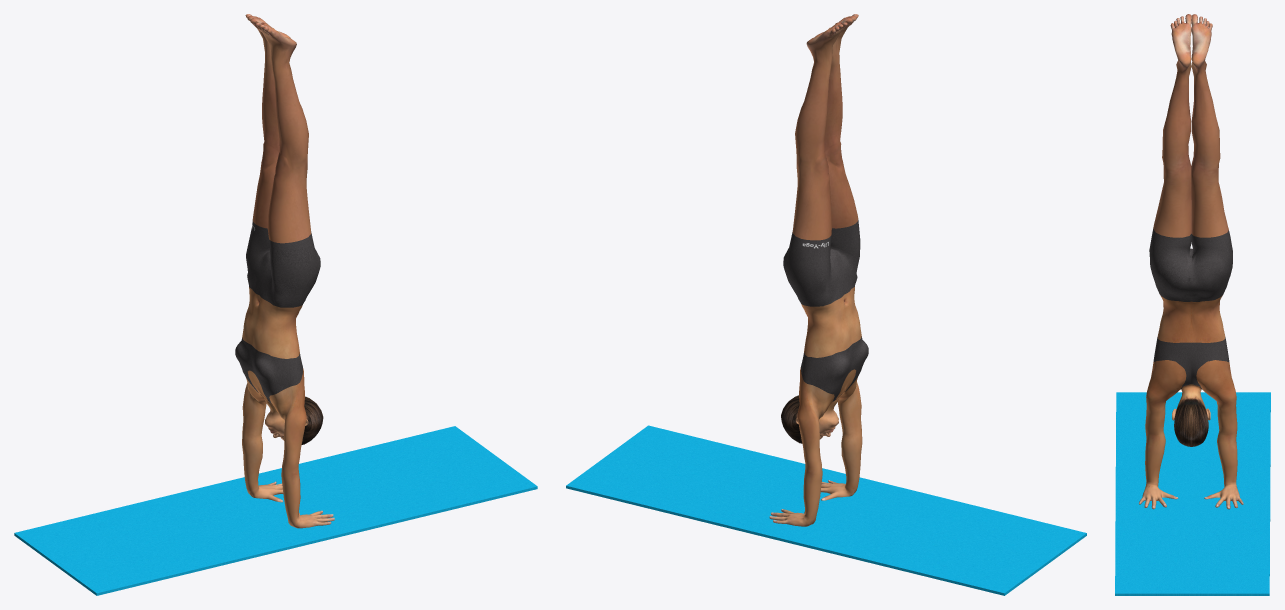
The model's file is adho_mukha_vrksasana.glb.
The picture shows the model from 3 angles, left to right: view 1: azimuth 30°, elevation 25°; view 2: azimuth 150°, elevation 25°; view 3: azimuth 270°, elevation 25°; orthographic projection. The views are drawn at different scales.
Visible parts, largest first — view 1: mat_001-material, FemaleSkin-material; view 2: mat_001-material, FemaleSkin-material; view 3: FemaleSkin-material, mat_001-material.
Boxes of the visible parts, x1,y1,x2,y2 form: mat_001-material: (14,426,537,595); FemaleSkin-material: (235,14,334,528); mat_001-material: (566,425,1086,595); FemaleSkin-material: (769,14,868,526); FemaleSkin-material: (1139,14,1243,509); mat_001-material: (1115,392,1270,595).
Size of the model in its own units: 6.17 by 6.72 by 2.02.
Materials: 2 (2 with a texture image).
